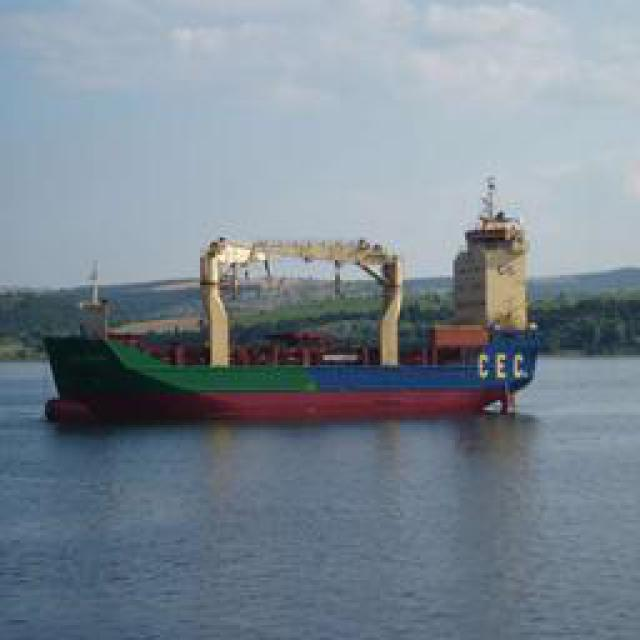Ship: (42, 246, 525, 424)
